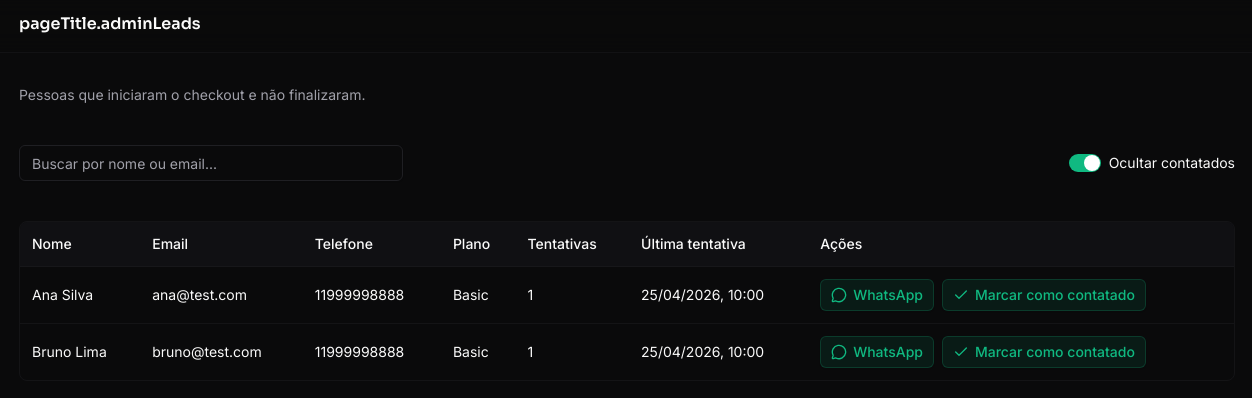
Test case: AdminLeadsPage › filters by name when typing in search
The image size is (1252, 398).
Step 1. Type "bruno" into the field with placeholder "Buscar por nome ou email..." → (211, 163), box [19,145,403,181]
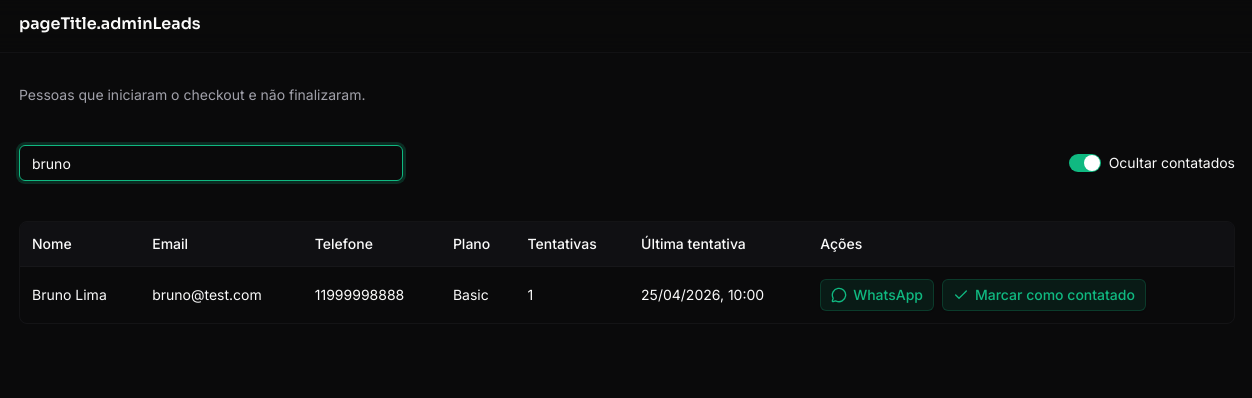
Expected: the text "Bruno Lima" is shown, [32,285,107,305]
Now the text "Ana Silva" is gone
